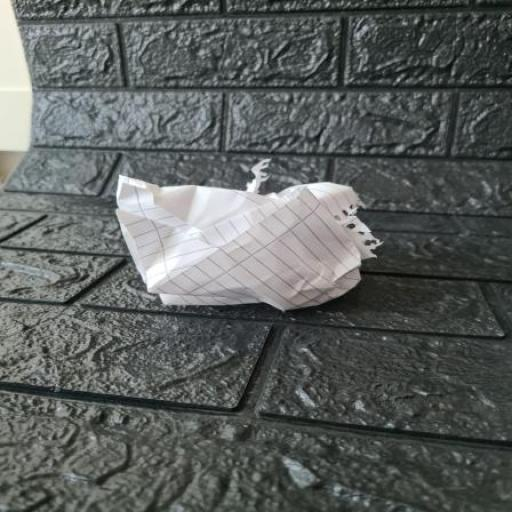paper: (48, 123, 455, 370)
